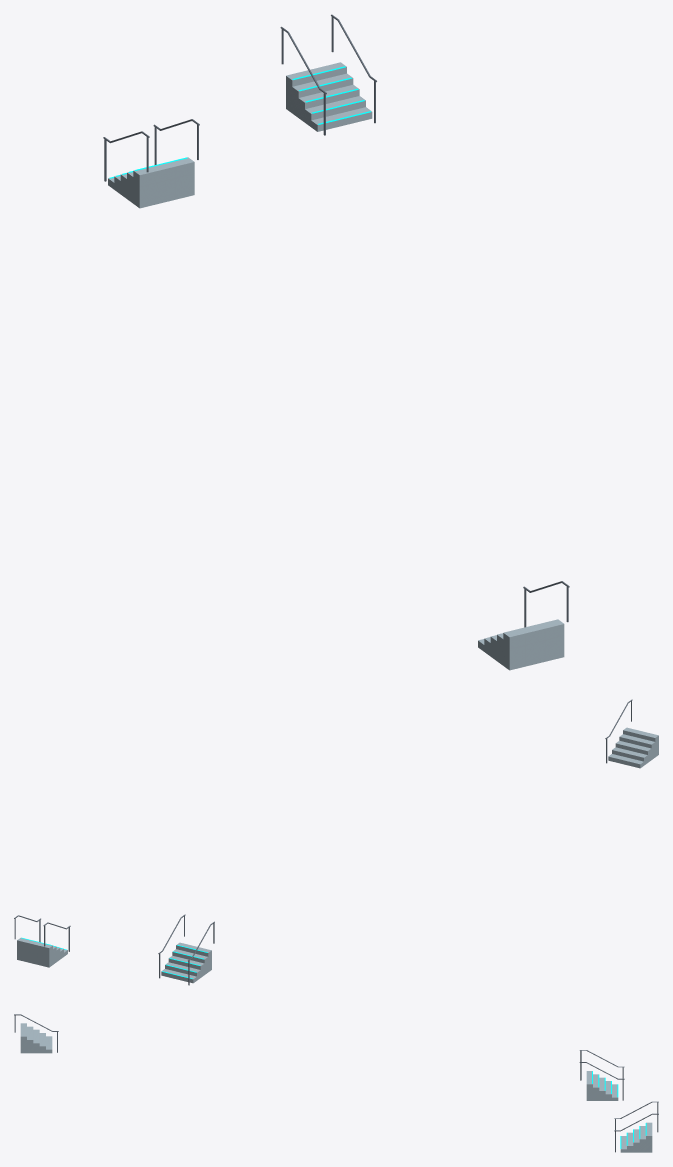
The model's file is tt_leisure_river_entries_b.glb.
The picture shows the model from 3 angles, top to bottom: view 1: azimuth 30°, elevation 25°; view 2: azimuth 150°, elevation 25°; view 3: azimuth 270°, elevation 25°; orthographic projection. The views are drawn at different scales.
Visible parts, largest first — view 1: River_Entry_Tile, Pool_RailPosts; view 2: River_Entry_Tile; view 3: River_Entry_Tile, Pool_Handrail, Pool_RailPosts, Step_Nosing_Cyan.
Boxes of the visible parts, x1,y1,x2,y2 form: River_Entry_Tile: (108, 62, 564, 670); Pool_RailPosts: (104, 17, 568, 627); River_Entry_Tile: (17, 727, 658, 983); River_Entry_Tile: (20, 1023, 652, 1152); Pool_Handrail: (14, 1014, 658, 1131); Pool_RailPosts: (14, 1015, 658, 1152); Step_Nosing_Cyan: (592, 1071, 646, 1148).
Size of what is drawn, in the model's own units: 11.8 by 1.87 by 28.5.
3 materials, 2 textured.
